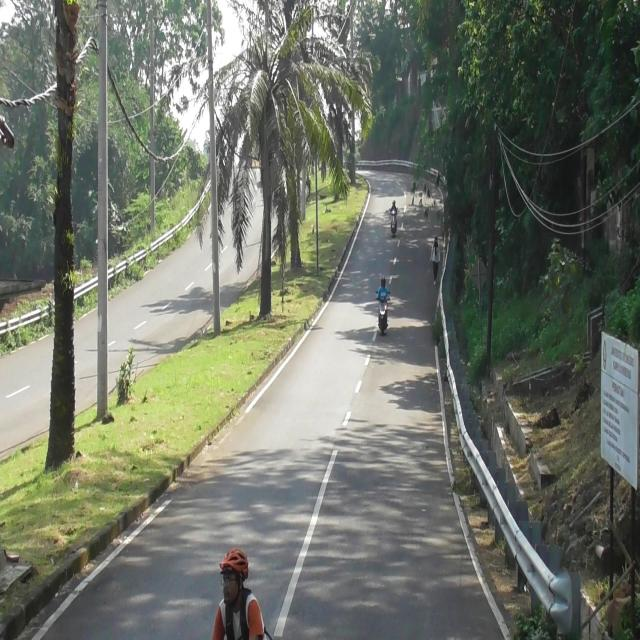motorcycle: (378, 296, 388, 334), (390, 209, 397, 235)
person: (376, 278, 390, 300), (391, 199, 397, 213)
rider_region: (376, 277, 390, 334), (390, 194, 398, 240)
